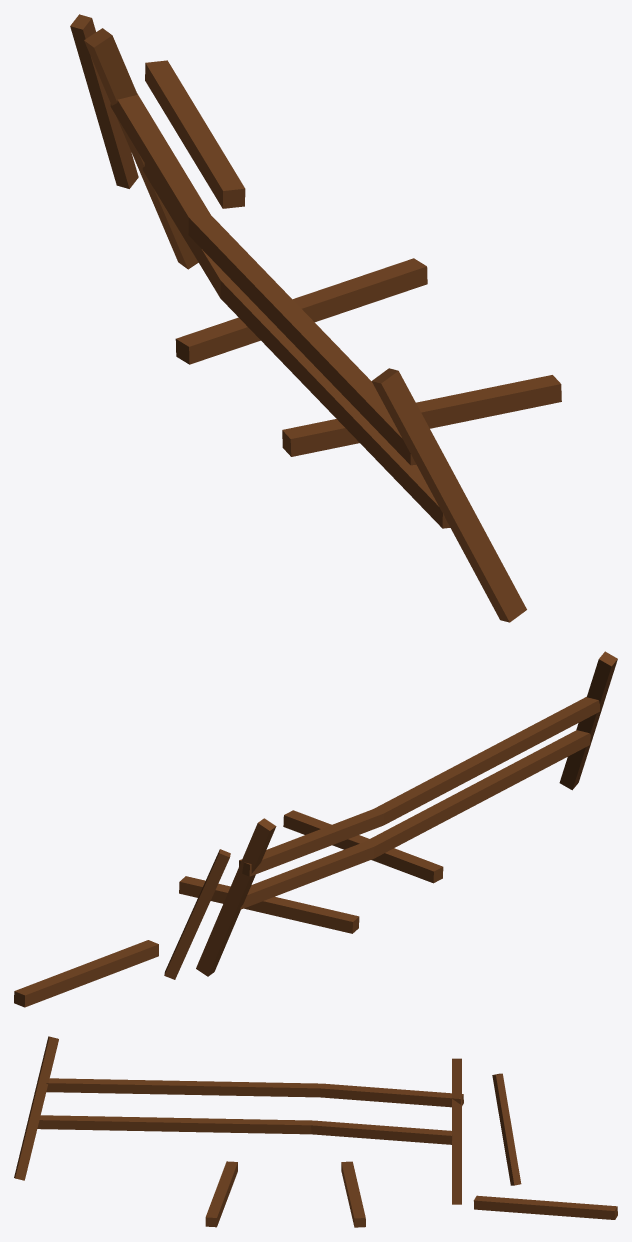
File: vallas1.fbx
The picture shows the model from 3 angles, top to bottom: view 1: azimuth 30°, elevation 25°; view 2: azimuth 150°, elevation 25°; view 3: azimuth 270°, elevation 25°; orthographic projection. The views are drawn at different scales.
Visible parts, largest first — view 1: Cube.175, Cube.166, Cube.174, Cube.178, Cube.169, Cube.167, Cube, Cube.168; view 2: Cube.175, Cube.174, Cube, Cube.167, Cube.178, Cube.169, Cube.166, Cube.168; view 3: Cube.174, Cube.175, Cube.167, Cube.166, Cube, Cube.168, Cube.169, Cube.178.
Boxes of the visible parts, x1,y1,x2,y2 form: Cube.175: [110, 93, 416, 465]; Cube.166: [371, 368, 526, 622]; Cube.174: [142, 163, 450, 528]; Cube.178: [175, 258, 427, 364]; Cube.169: [282, 375, 561, 456]; Cube.167: [145, 60, 245, 208]; Cube: [84, 28, 198, 269]; Cube.168: [70, 14, 138, 188]; Cube.175: [239, 697, 599, 876]; Cube.174: [239, 730, 590, 909]; Cube: [196, 818, 276, 976]; Cube.167: [14, 940, 158, 1007]; Cube.178: [179, 876, 359, 933]; Cube.169: [283, 810, 443, 883]; Cube.166: [559, 651, 617, 790]; Cube.168: [164, 849, 230, 979]; Cube.174: [37, 1115, 452, 1144]; Cube.175: [46, 1078, 463, 1107]; Cube.167: [473, 1195, 617, 1219]; Cube.166: [14, 1036, 58, 1180]; Cube: [452, 1058, 461, 1204]; Cube.168: [492, 1073, 521, 1185]; Cube.169: [205, 1161, 237, 1227]; Cube.178: [341, 1161, 365, 1227].
Size of the model in its own units: 2023 by 1433 by 6001.
